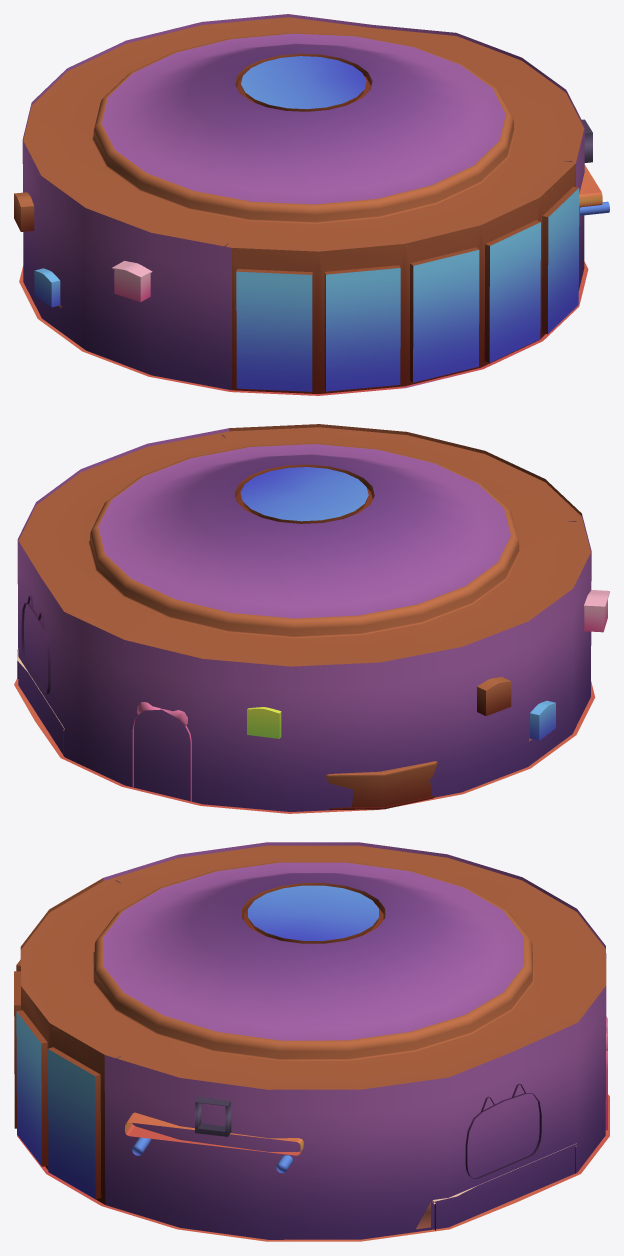
Rendered from Cafe blockout coloured.fbx.
The picture shows the model from 3 angles, top to bottom: view 1: azimuth 30°, elevation 25°; view 2: azimuth 150°, elevation 25°; view 3: azimuth 270°, elevation 25°; orthographic projection. The views are drawn at different scales.
Visible parts, largest first — view 1: Roof, Wall, Floor, Cat_Box6, Bar_roof2, Cat_Box3, Cat_Box2; view 2: Roof, Wall, Couch, Floor, Cat_Box2, Cat_Box1, Cat_Box6, Cat_Box3, Cat_Box5, Door; view 3: Roof, Wall, Bar_roof2, Floor, Cat_Box5.
Boxes of the visible parts, x1,y1,x2,y2 form: Roof: (23,17,584,254); Wall: (22,14,584,393); Floor: (19,261,588,395); Cat_Box6: (111,261,152,301); Bar_roof2: (579,119,609,215); Cat_Box3: (34,268,60,307); Cat_Box2: (14,192,34,231); Roof: (18,427,590,666); Wall: (17,424,591,811); Couch: (326,761,437,809); Floor: (14,678,595,813); Cat_Box2: (477,677,511,715); Cat_Box1: (247,707,281,738); Cat_Box6: (584,590,609,632); Cat_Box3: (530,700,555,740); Cat_Box5: (21,595,50,694); Door: (132,702,191,801); Roof: (20,845,606,1089); Wall: (14,842,606,1239); Bar_roof2: (125,1096,303,1173); Floor: (17,1094,609,1241); Cat_Box5: (465,1083,541,1178).
Size of the model in its own units: 1800 by 663 by 1743.
